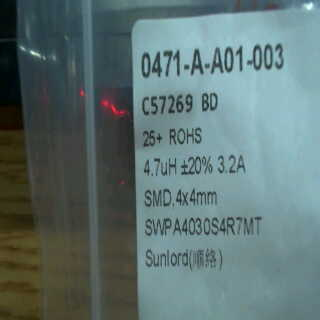4.7uH: (138, 154, 182, 178)
